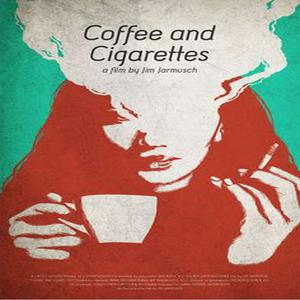cigarette: (253, 141, 280, 175)
